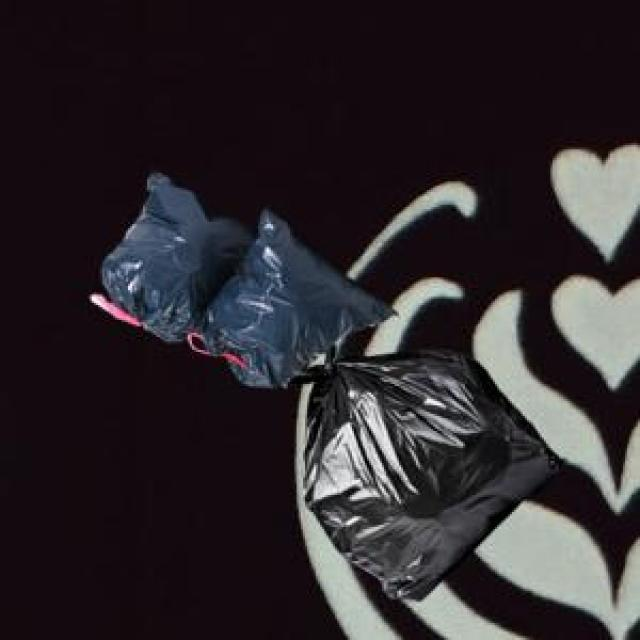waste: (92, 175, 558, 599)
